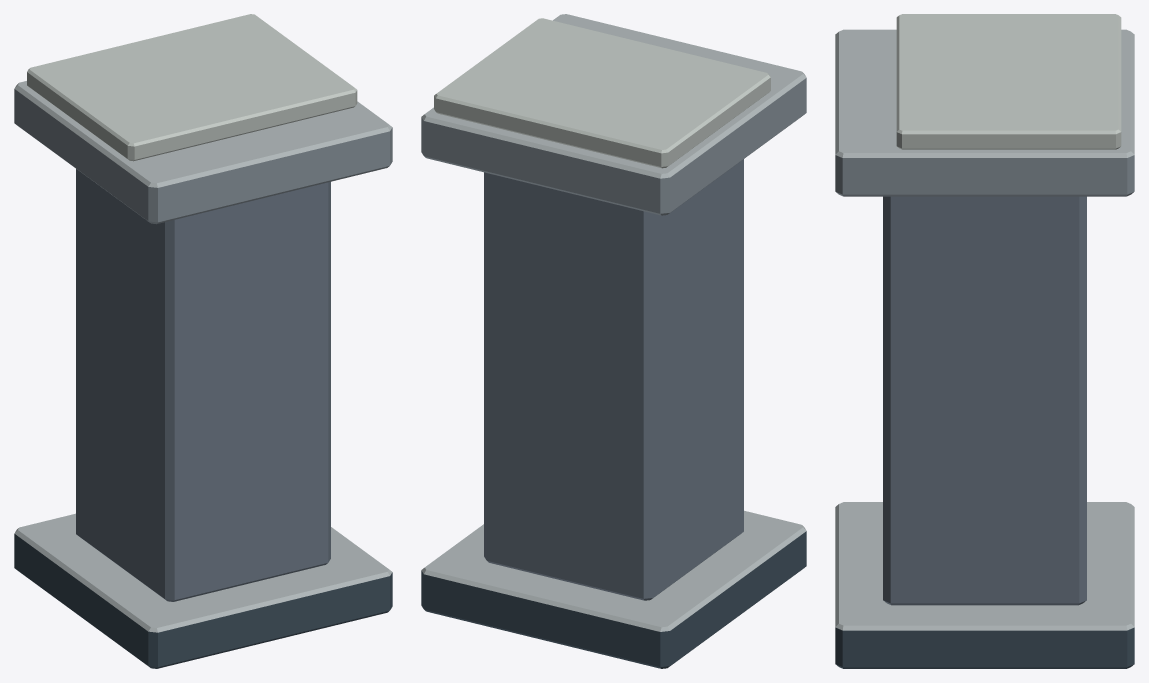
File: pillar-large.glb
3 renders of one model, left to right at view 1: azimuth 30°, elevation 25°; view 2: azimuth 150°, elevation 25°; view 3: azimuth 270°, elevation 25°, orthographic. The views are drawn at different scales.
Visible parts, largest first — view 1: pillar-large__body; view 2: pillar-large__body; view 3: pillar-large__body.
Boxes of the visible parts, x1,y1,x2,y2 form: pillar-large__body: (14, 14, 392, 668); pillar-large__body: (421, 14, 806, 668); pillar-large__body: (835, 14, 1134, 668).
Size of the model in its own units: 1 by 1.97 by 1.
